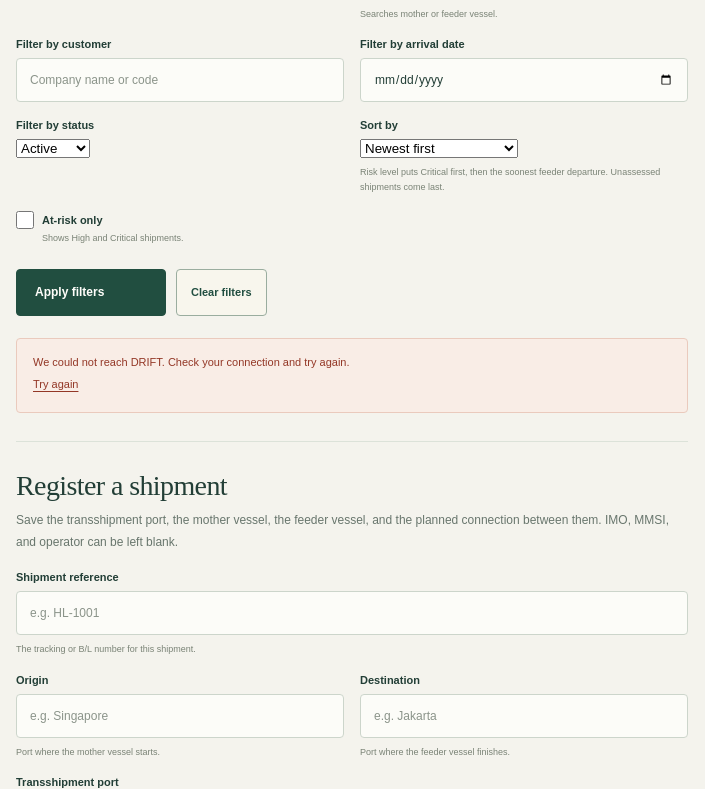
Test: workspace shipment retrieval › retries a failed list request
The image size is (705, 789).
(page scrolled)
Expected: the message shows "We could not reach DRIFT. Check your connection and try again.", [33, 356, 350, 368]
Click the button "Try again".
click(56, 385)  # box [33, 371, 78, 398]
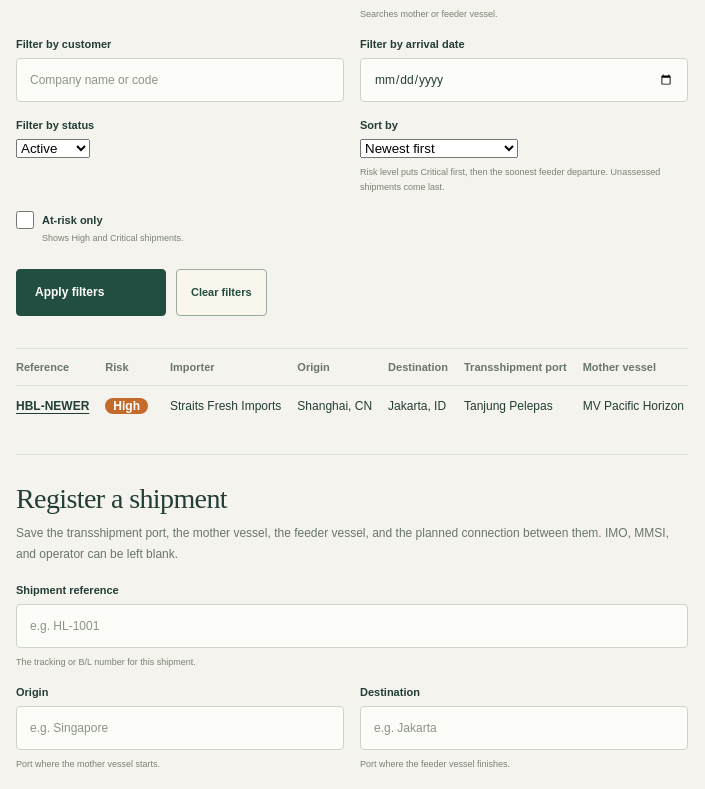
Now the cell "HBL-NEWER" is shown, box [16, 385, 105, 426]
